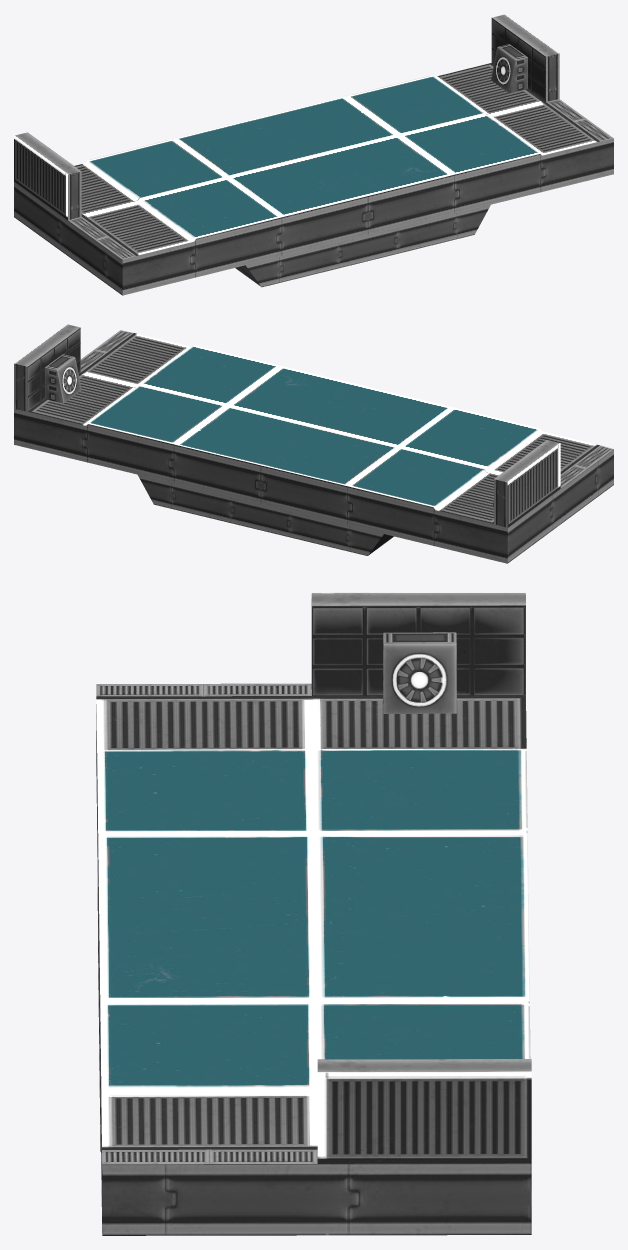
Rendered from ARC1110038.fbx.
The picture shows the model from 3 angles, top to bottom: view 1: azimuth 30°, elevation 25°; view 2: azimuth 150°, elevation 25°; view 3: azimuth 270°, elevation 25°; orthographic projection. The views are drawn at different scales.
Visible parts, largest first — view 1: smARC1110038; view 2: smARC1110038; view 3: smARC1110038.
Boxes of the visible parts, x1,y1,x2,y2 form: smARC1110038: (14, 14, 613, 295); smARC1110038: (14, 324, 613, 563); smARC1110038: (96, 592, 531, 1235).
Bounding box in the file's own units: 530 × 110 × 203.
Materials: 1 (1 with a texture image).
